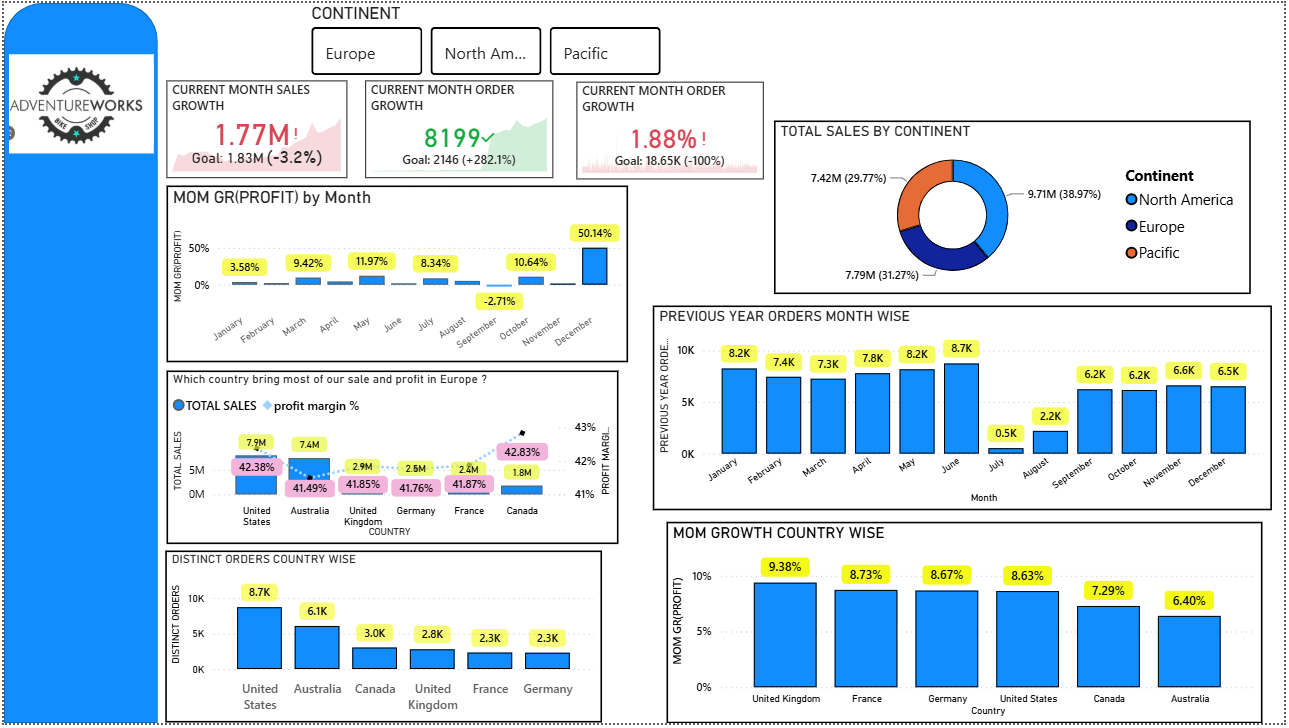

What the dashboard file says about the page in this screenshot:
{"tool":"powerbi","page":{"name":"GEOGRAPHICAL ANALYSIS","canvas":[1280,720],"ordinal":1},"visuals":[{"type":"shape","box":[0,0,153.8,720],"z":0},{"type":"image","box":[4.6,50.8,144.6,99.2],"z":1000},{"type":"advancedSlicerVisual","title":"CONTINENT","fields":{"Values":["Territory Lookup (1) csv.Continent"]},"box":[303.1,0,359.2,77.7],"z":2000},{"type":"kpi","title":"CURRENT MONTH SALES GROWTH","fields":{"Indicator":["ALL MEASURES.PREVIOUS MONTH SALES"],"TrendLine":["Calendar Lookup (1) csv.start of month"],"Goal":["ALL MEASURES.TOTAL SALES"]},"box":[162.9,77.2,181,97.7],"z":3000},{"type":"kpi","title":"CURRENT MONTH ORDER GROWTH","fields":{"Indicator":["ALL MEASURES.PREVIOUS YEAR ORDERS"],"TrendLine":["Calendar Lookup (1) csv.start of month"],"Goal":["ALL MEASURES.DISTINCT ORDERS"]},"box":[360.7,77.2,188.2,97.7],"z":4000},{"type":"kpi","title":"CURRENT MONTH ORDER GROWTH","fields":{"Goal":["ALL MEASURES.PREVIOUS MONTH PROFIT"],"Indicator":["ALL MEASURES.MOM GR(PROFIT)"],"TrendLine":["Calendar Lookup (1) csv.Date"]},"box":[573.1,78.4,187,97.7],"z":5000},{"type":"lineClusteredColumnComboChart","fields":{"Category":["Calendar Lookup (1) csv.start of month.Variation.Date Hierarchy.Month"],"Y":["ALL MEASURES.MOM GR(PROFIT)"]},"box":[163.1,183.1,461.5,176.9],"z":6000},{"type":"lineClusteredColumnComboChart","title":"Which country bring most of our sale and profit in Europe ?","fields":{"Category":["Territory Lookup (1) csv.Country"],"Y":["ALL MEASURES.TOTAL SALES"],"Y2":["ALL MEASURES.profit margin %"]},"box":[163.1,367.7,452.3,173.8],"z":7000},{"type":"lineClusteredColumnComboChart","title":"DISTINCT ORDERS COUNTRY WISE","fields":{"Y":["ALL MEASURES.DISTINCT ORDERS"],"Category":["Territory Lookup (1) csv.Country"]},"box":[161.5,548.1,436.5,172.1],"z":8000},{"type":"donutChart","title":"TOTAL SALES BY CONTINENT","fields":{"Y":["ALL MEASURES.TOTAL SALES"],"Category":["Territory Lookup (1) csv.Continent","Territory Lookup (1) csv.Country","Territory Lookup (1) csv.Region"]},"box":[769.7,117,476.5,173.7],"z":9000},{"type":"lineClusteredColumnComboChart","title":"PREVIOUS YEAR ORDERS MONTH WISE","fields":{"Y":["ALL MEASURES.PREVIOUS YEAR ORDERS"],"Category":["Calendar Lookup (1) csv.start of month.Variation.Date Hierarchy.Month"]},"box":[649.1,302.8,618.9,205.1],"z":10000},{"type":"clusteredColumnChart","title":"MOM GROWTH COUNTRY  WISE","fields":{"Y":["ALL MEASURES.MOM GR(PROFIT)"],"Category":["Territory Lookup (1) csv.Country"]},"box":[662.3,518.8,596,201.5],"z":11000}]}

Visuals, with their boxes in screenshot pixels (x1, y1, x2, y2), scaled from the page's 1280x720 canvas onto the 1289x728 screenshot:
shape: rect(0, 0, 155, 727)
image: rect(5, 51, 150, 152)
"CONTINENT" advancedSlicerVisual: rect(305, 0, 667, 79)
"CURRENT MONTH SALES GROWTH" kpi: rect(164, 78, 346, 177)
"CURRENT MONTH ORDER GROWTH" kpi: rect(363, 78, 553, 177)
"CURRENT MONTH ORDER GROWTH" kpi: rect(577, 79, 765, 178)
lineClusteredColumnComboChart - Calendar Lookup (1) csv.start of month.Variation.Date Hierarchy.Month x ALL MEASURES.MOM GR(PROFIT): rect(164, 185, 629, 364)
"Which country bring most of our sale and profit in Europe ?" lineClusteredColumnComboChart: rect(164, 372, 620, 548)
"DISTINCT ORDERS COUNTRY WISE" lineClusteredColumnComboChart: rect(163, 554, 602, 727)
"TOTAL SALES BY CONTINENT" donutChart: rect(775, 118, 1255, 294)
"PREVIOUS YEAR ORDERS MONTH WISE" lineClusteredColumnComboChart: rect(654, 306, 1277, 514)
"MOM GROWTH COUNTRY  WISE" clusteredColumnChart: rect(667, 525, 1267, 727)
